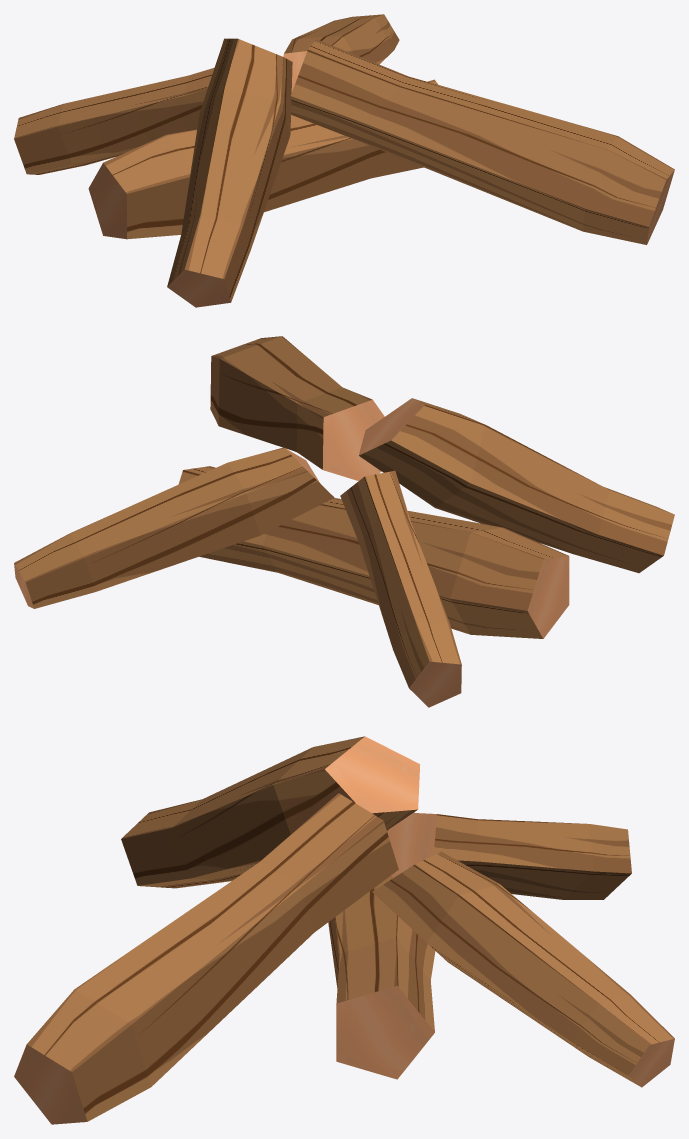
Rendered from Firewood_B.fbx.
3 views of the same model, one above another, from view 1: azimuth 30°, elevation 25°; view 2: azimuth 150°, elevation 25°; view 3: azimuth 270°, elevation 25° (orthographic). The views are drawn at different scales.
Parts seen in each view (by area): view 1: Firewood_B; view 2: Firewood_B; view 3: Firewood_B.
Part boxes in pixels (box(x1,y1,x2,y2)): Firewood_B: box(14, 14, 674, 307); Firewood_B: box(14, 336, 674, 707); Firewood_B: box(14, 736, 674, 1124).
Bounding box in the file's own units: 160 × 61.9 × 162.
1 material, 1 textured.
